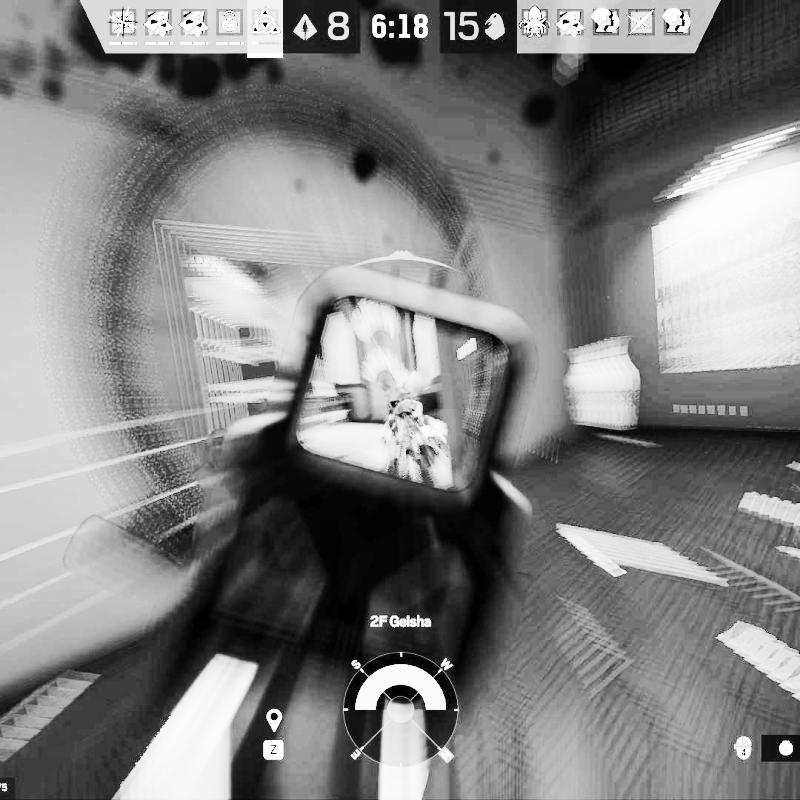Character: (378, 399, 451, 488)
Head: (395, 401, 424, 426)
